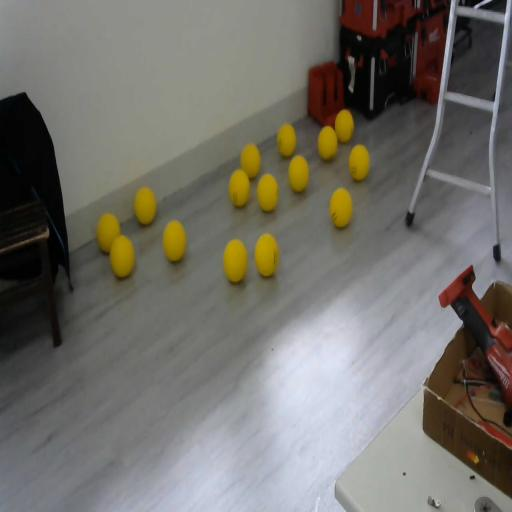FUEL: (108, 234, 136, 280), (222, 238, 248, 283), (254, 232, 279, 277), (162, 218, 187, 262), (256, 172, 280, 213), (134, 186, 157, 226), (330, 187, 352, 228), (228, 168, 250, 208), (348, 143, 370, 181), (288, 154, 309, 193), (240, 142, 261, 180), (276, 122, 296, 157), (317, 126, 337, 161), (334, 108, 354, 142)
